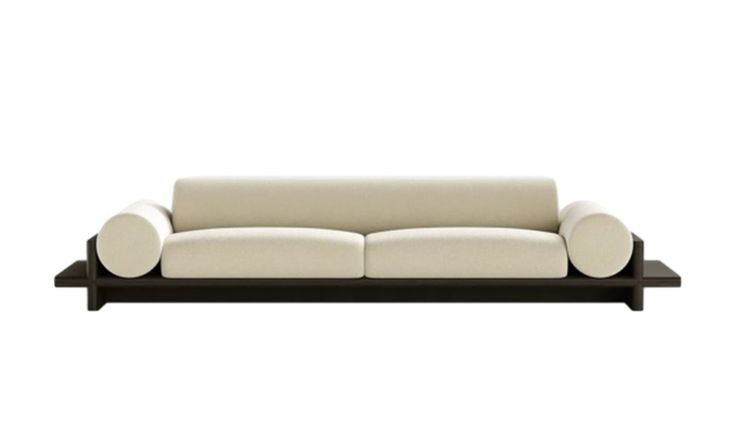3seatersofa: (54, 177, 680, 310)
backrest: (172, 177, 558, 234)
base: (96, 276, 634, 302)
leftarmrest: (559, 201, 680, 286)
leg: (87, 282, 104, 310), (626, 283, 642, 310)
rightarmrest: (55, 201, 172, 286)
seat: (162, 228, 566, 278)
